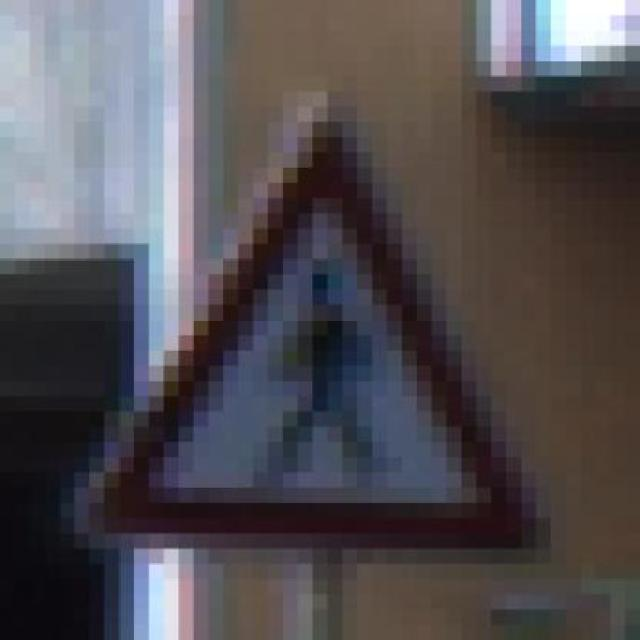Pedestrian Crossing: (74, 76, 566, 564)
